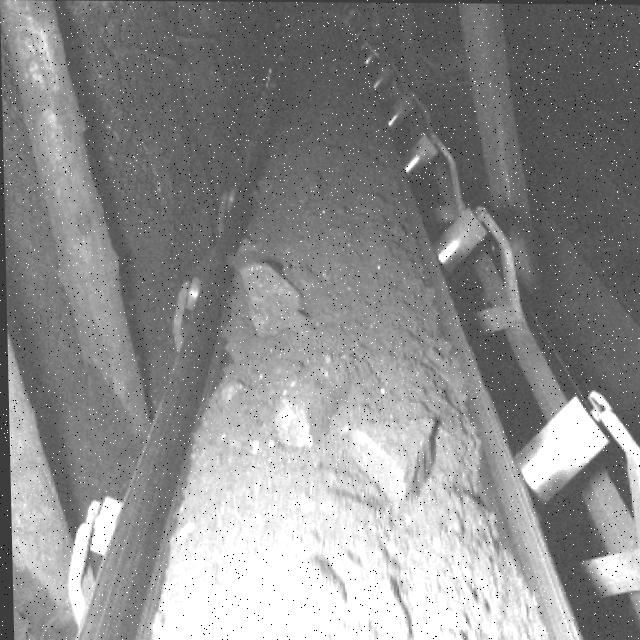large_sized_coal: (227, 556, 345, 637), (347, 418, 438, 500), (265, 370, 340, 447), (239, 257, 300, 337)
